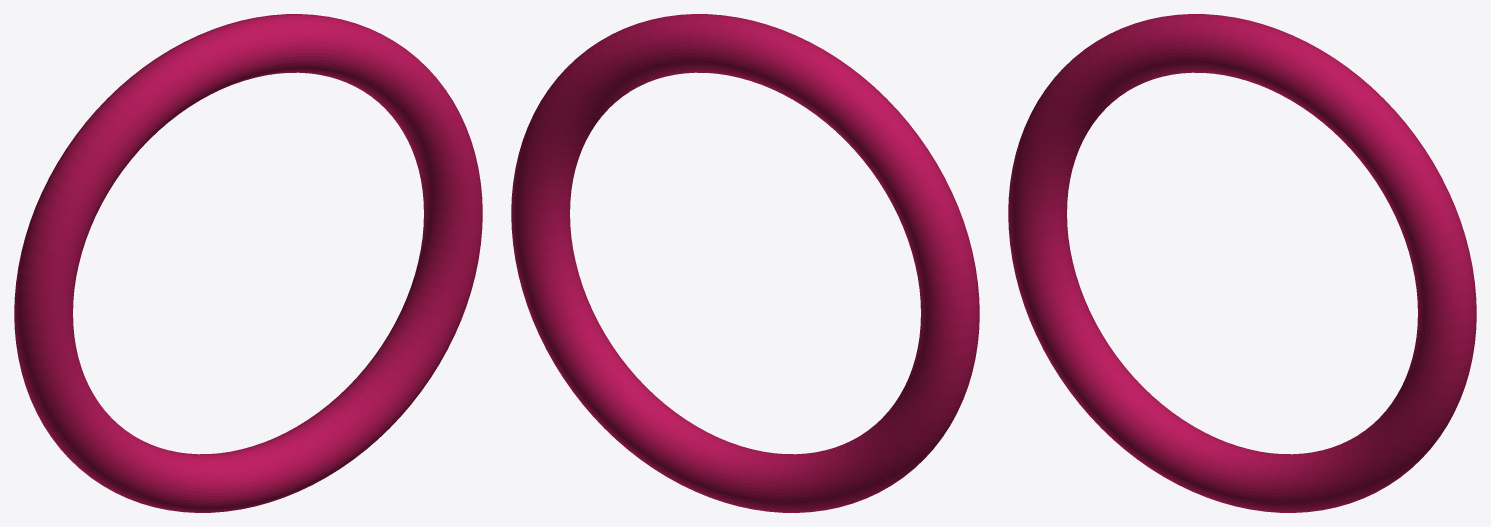
The picture shows the model from 3 angles, left to right: view 1: azimuth 30°, elevation 25°; view 2: azimuth 150°, elevation 25°; view 3: azimuth 330°, elevation 25°; orthographic projection.
Parts seen in each view (by area): view 1: world; view 2: world; view 3: world.
Part boxes in pixels (bbox=[...]): world: bbox=[14, 14, 482, 512]; world: bbox=[511, 14, 979, 512]; world: bbox=[1008, 14, 1476, 512].
Size of the model in its own units: 27.73 by 27.73 by 3.06.
